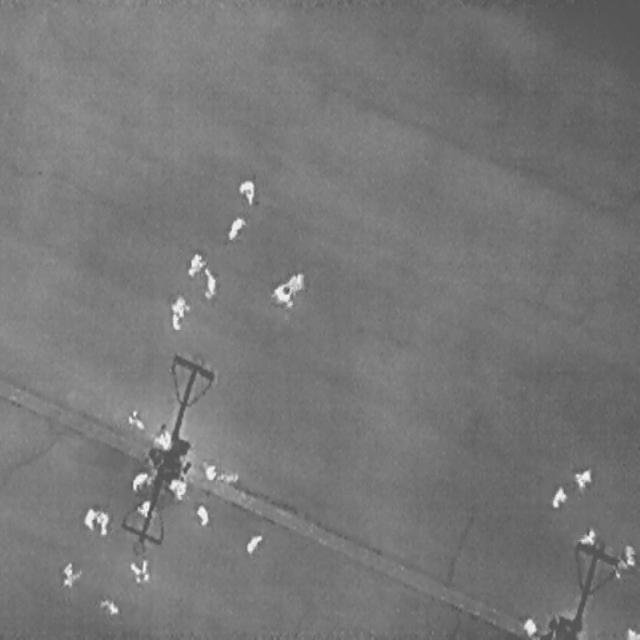Person: (127, 553, 151, 585), (223, 210, 246, 242), (548, 480, 570, 512), (242, 526, 265, 555), (183, 249, 205, 279), (572, 465, 594, 493), (170, 295, 187, 331), (125, 407, 147, 432), (236, 178, 255, 206), (153, 422, 172, 448), (271, 285, 293, 307), (201, 268, 216, 300), (97, 596, 119, 616), (169, 476, 187, 499), (60, 560, 75, 586), (521, 614, 537, 638), (94, 510, 109, 535), (201, 460, 218, 482), (194, 502, 208, 528), (621, 542, 635, 568), (286, 272, 304, 292), (131, 469, 147, 490), (82, 505, 94, 531), (137, 501, 153, 519), (581, 526, 596, 545), (626, 625, 639, 637)
